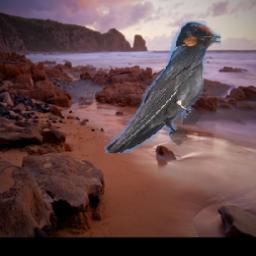Swallow: (105, 22, 222, 154)
